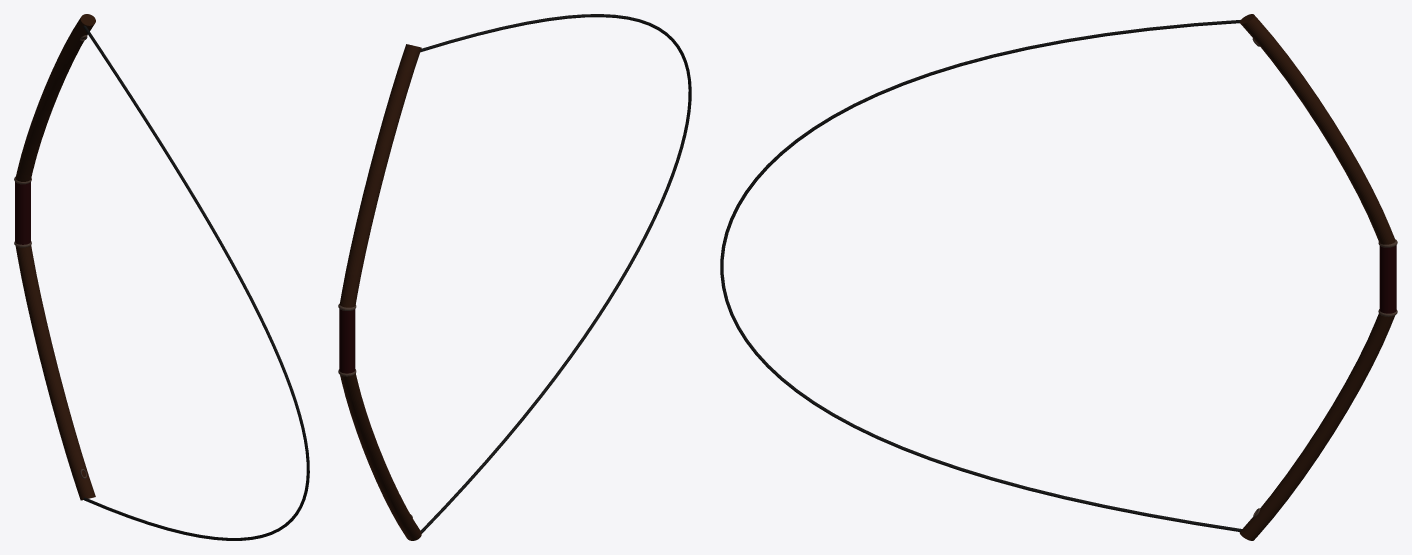
The model's file is Bow.fbx.
The picture shows the model from 3 angles, left to right: view 1: azimuth 30°, elevation 25°; view 2: azimuth 150°, elevation 25°; view 3: azimuth 270°, elevation 25°; orthographic projection. The views are drawn at different scales.
Parts seen in each view (by area): view 1: NurbsPath.002; view 2: NurbsPath.002; view 3: NurbsPath.002.
Part boxes in pixels (box(x1,y1,x2,y2)): NurbsPath.002: box(14, 14, 309, 540); NurbsPath.002: box(338, 14, 691, 540); NurbsPath.002: box(720, 14, 1397, 540).
Bounding box in the file's own units: 9.75 × 94.04 × 110.
